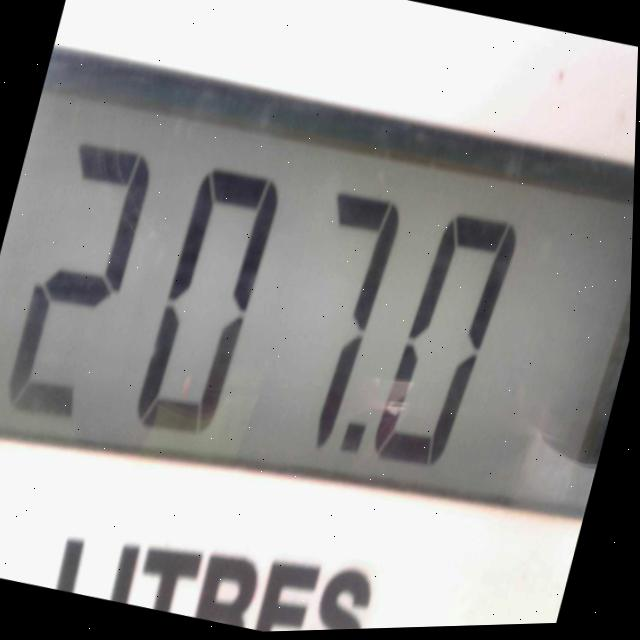.: (334, 404, 383, 473)
0: (116, 144, 306, 459), (356, 196, 552, 500)
2: (0, 127, 171, 448), (243, 167, 412, 480)
